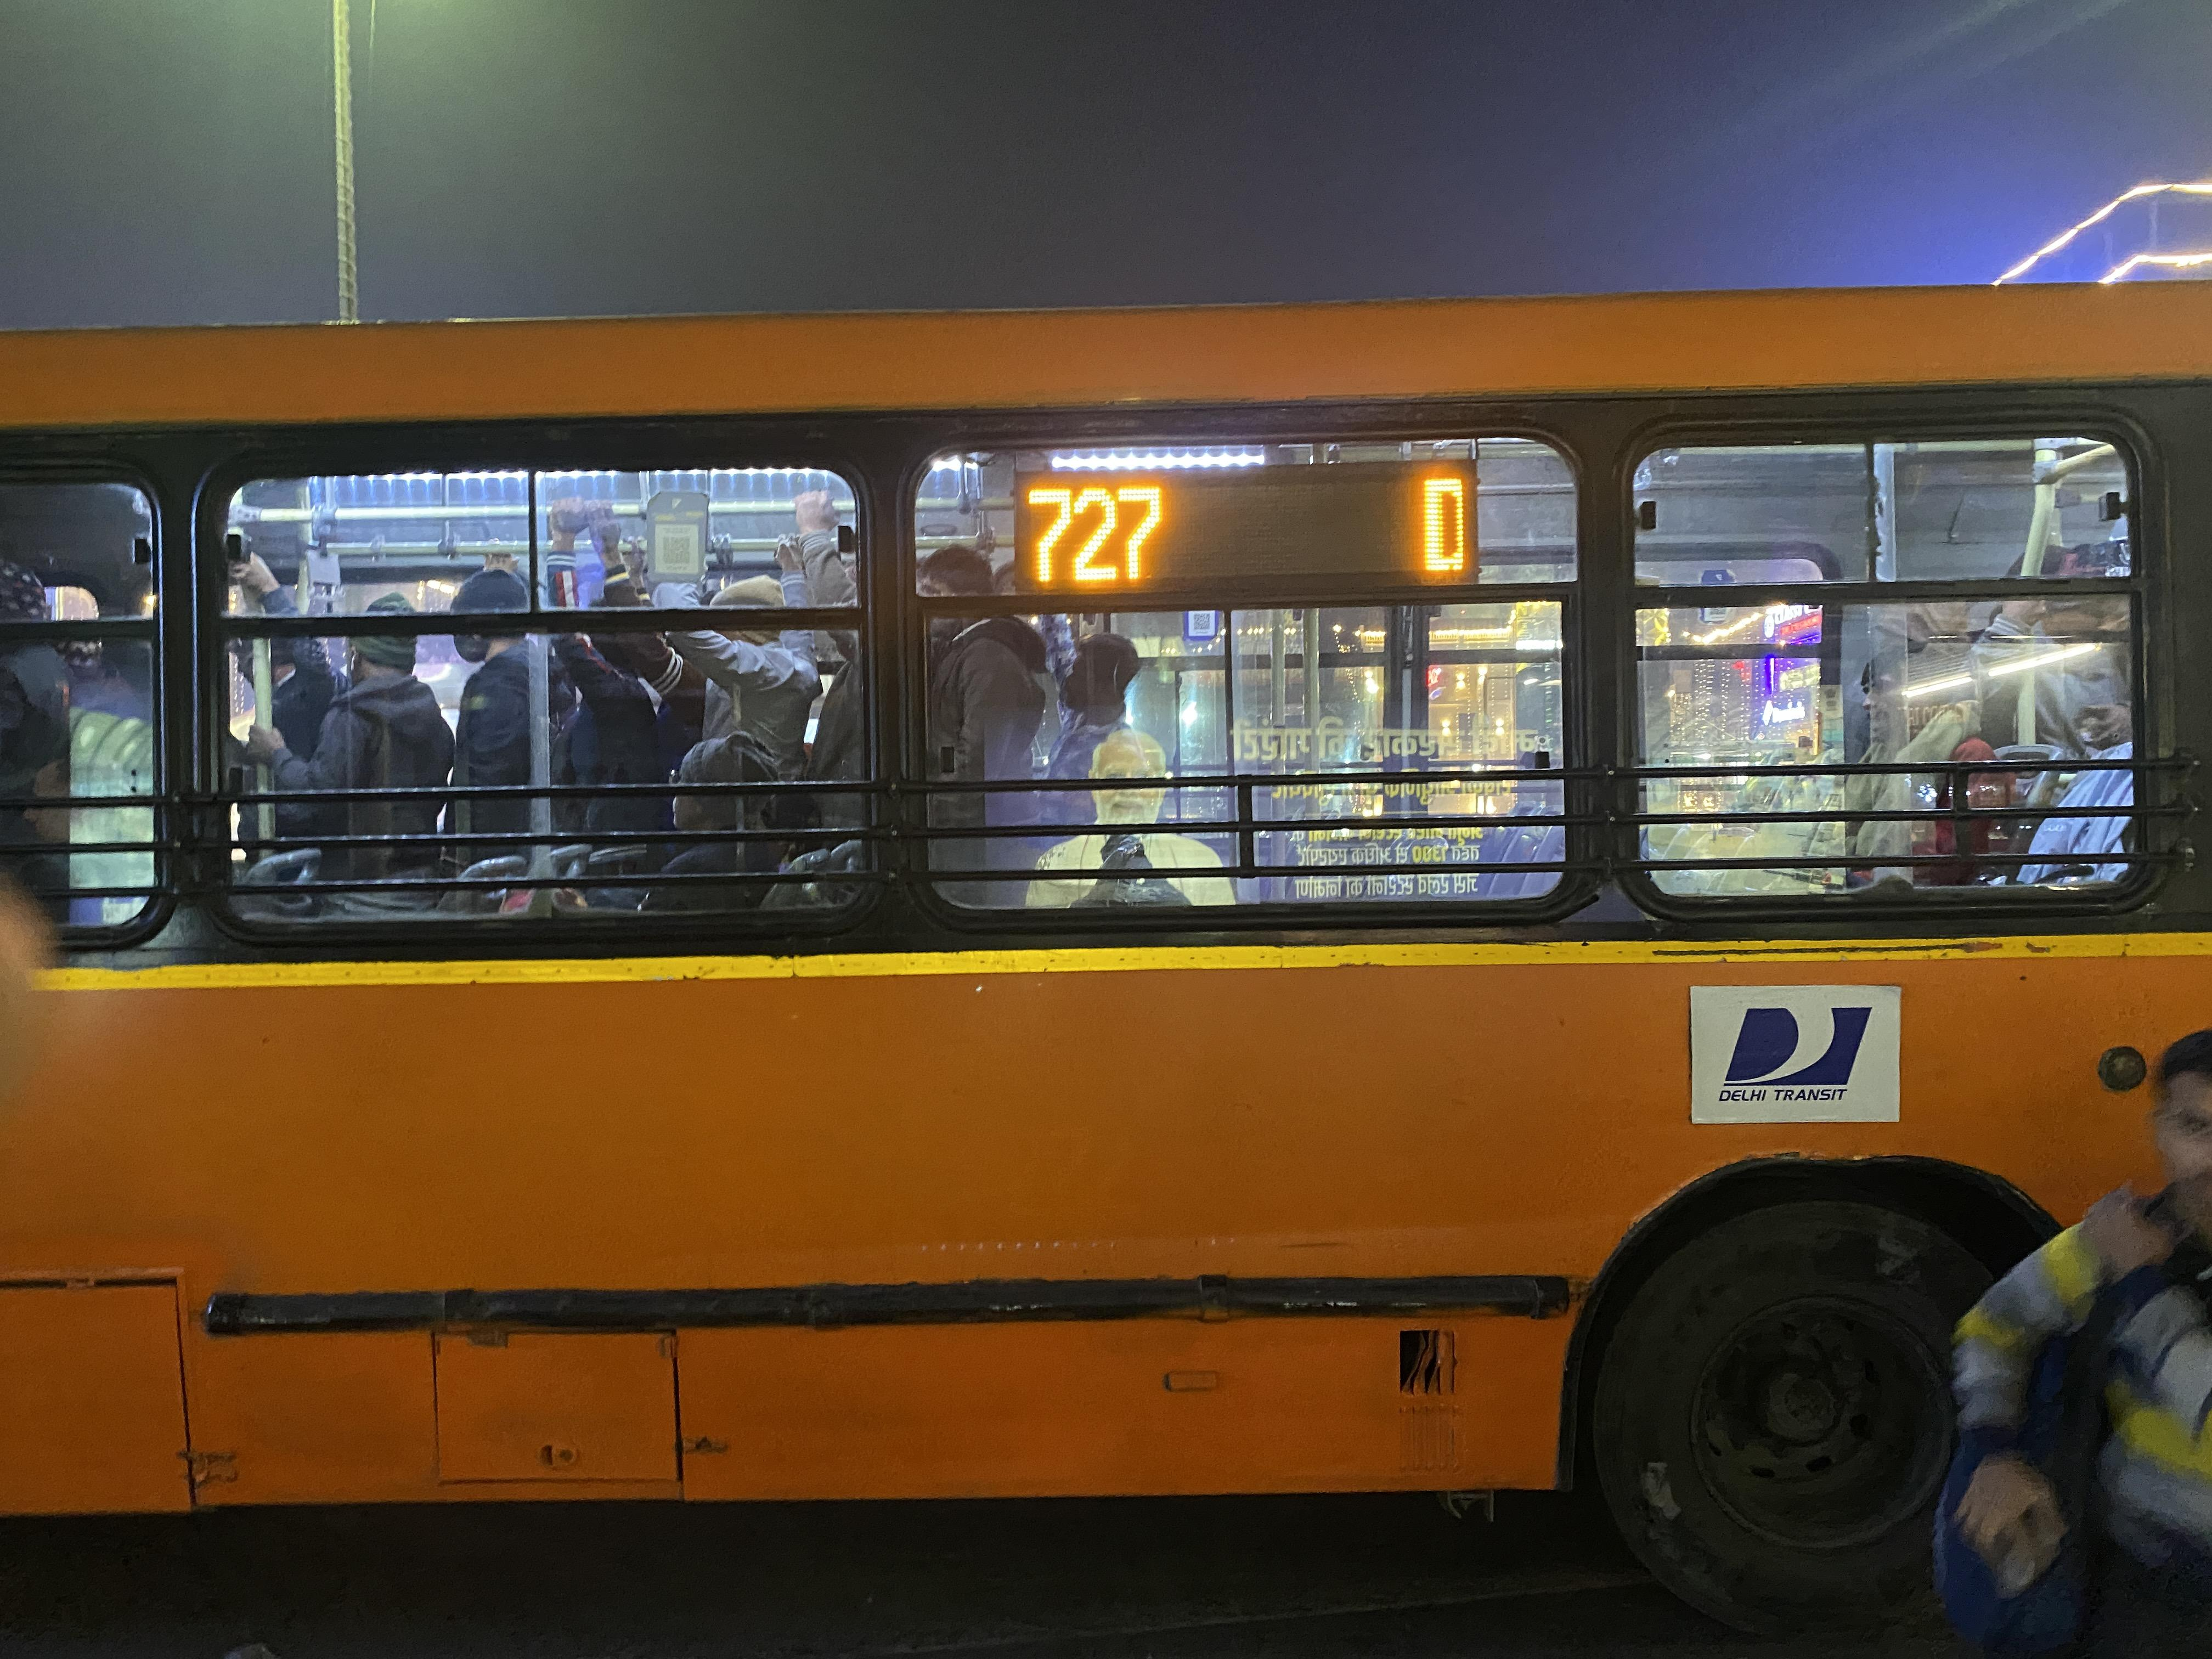Bus: (0, 301, 2212, 1635)
Display Board: (1010, 434, 1503, 641)
